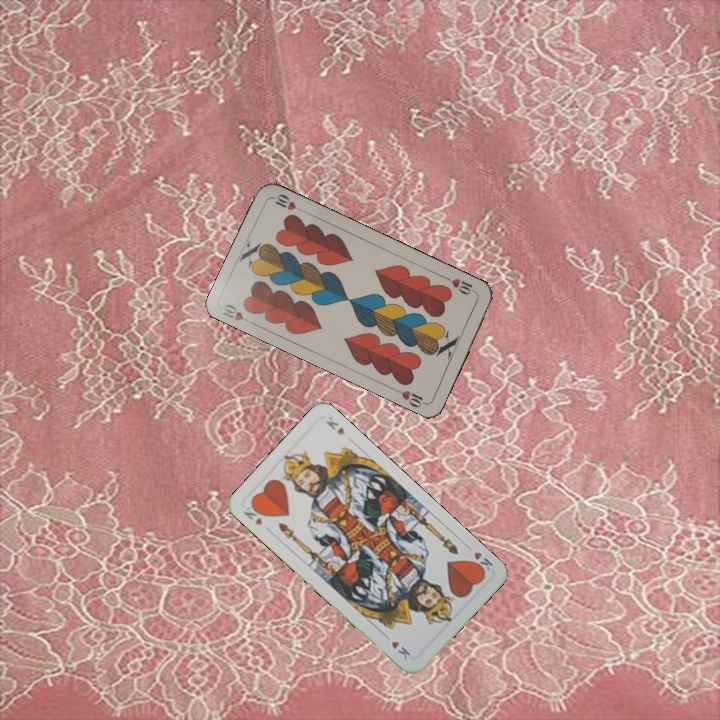H10: (219, 300, 256, 327), (441, 273, 479, 298)
HK: (462, 541, 495, 576), (239, 500, 267, 528)
